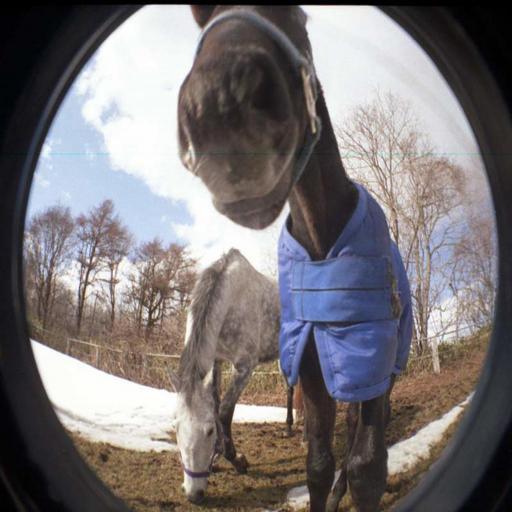horse: (176, 0, 414, 511), (162, 246, 294, 504)
